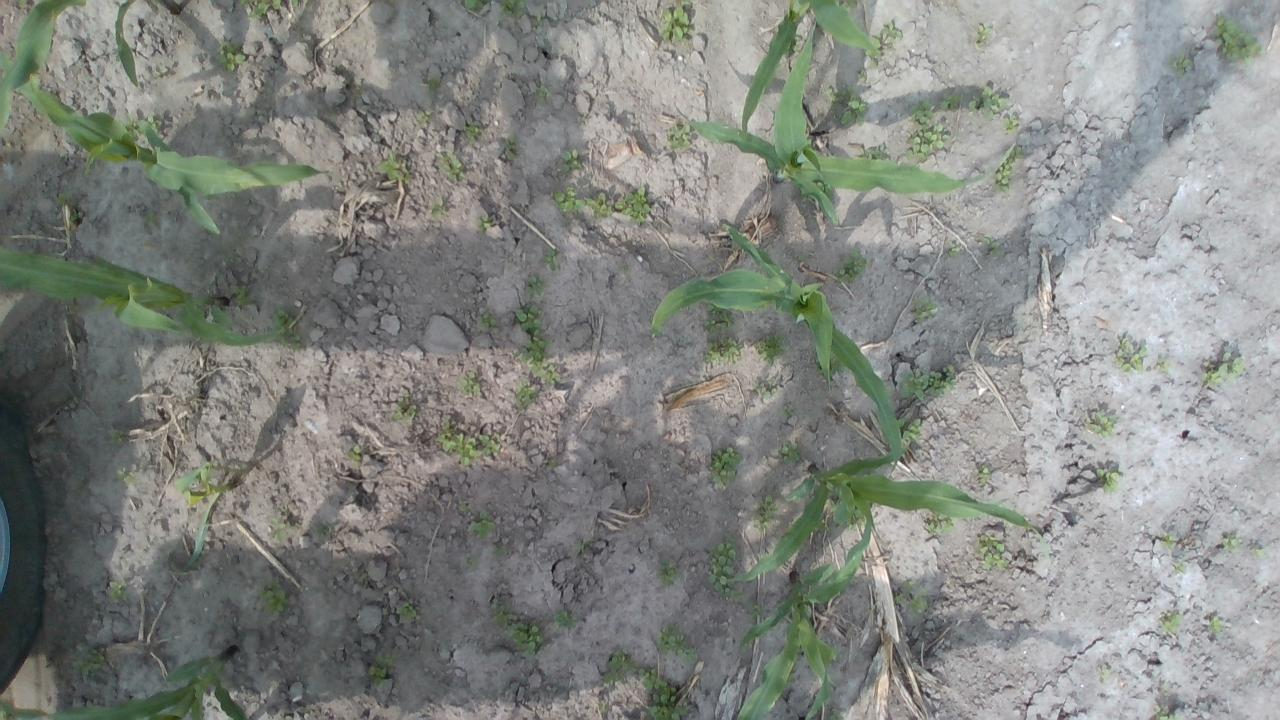Maize: (679, 21, 1015, 226), (649, 221, 904, 474), (0, 50, 331, 241), (728, 454, 1056, 584), (734, 516, 881, 720), (0, 246, 281, 350), (0, 0, 181, 120), (740, 0, 881, 133), (0, 649, 250, 720), (170, 462, 226, 573)
Weeds: (514, 302, 560, 386), (904, 99, 950, 162), (639, 663, 687, 720), (1214, 15, 1264, 65), (436, 429, 501, 465), (707, 535, 743, 600), (898, 364, 956, 400), (825, 86, 868, 126), (1202, 349, 1246, 388), (614, 184, 652, 227), (655, 624, 698, 662), (660, 0, 696, 42), (710, 447, 745, 489), (968, 86, 1008, 122), (994, 146, 1024, 192), (504, 622, 544, 656), (894, 578, 928, 617), (272, 304, 302, 348), (600, 648, 634, 686), (702, 336, 744, 366), (70, 646, 104, 682), (1113, 337, 1147, 373), (257, 578, 288, 616), (835, 248, 867, 284), (976, 533, 1008, 569), (213, 39, 246, 72), (376, 150, 409, 182), (754, 334, 788, 362), (436, 150, 464, 183), (369, 655, 396, 689), (753, 494, 777, 532), (704, 304, 734, 334), (468, 510, 498, 539), (552, 187, 584, 214), (926, 509, 960, 534), (1087, 412, 1119, 438), (799, 182, 835, 204), (389, 397, 417, 425), (655, 558, 680, 586), (1168, 49, 1192, 78), (896, 416, 922, 442), (1095, 466, 1121, 492), (457, 370, 481, 398), (585, 192, 611, 217), (557, 148, 582, 172), (514, 384, 536, 411), (751, 380, 780, 400), (777, 441, 802, 464), (552, 606, 578, 628), (914, 297, 938, 320), (668, 123, 690, 148), (525, 272, 546, 298), (121, 111, 142, 135), (500, 0, 530, 16), (879, 22, 903, 42), (1162, 610, 1182, 634), (861, 144, 890, 159), (464, 120, 480, 146), (864, 35, 882, 58), (270, 518, 288, 541), (1221, 532, 1241, 552), (230, 286, 252, 304), (250, 0, 270, 19), (974, 23, 992, 44), (846, 510, 866, 528), (108, 582, 128, 600), (544, 248, 559, 272), (985, 234, 1001, 256), (146, 111, 160, 136), (1001, 117, 1020, 135), (494, 606, 512, 625), (941, 94, 961, 111), (535, 85, 554, 102), (396, 601, 416, 617), (478, 313, 498, 329), (1156, 709, 1184, 720), (115, 465, 134, 481), (1160, 531, 1176, 550), (350, 445, 362, 470), (788, 31, 802, 52), (504, 137, 516, 161), (834, 0, 858, 12), (462, 0, 488, 11), (142, 209, 157, 228), (430, 199, 444, 219), (1210, 616, 1225, 634), (56, 191, 72, 207), (107, 428, 123, 444), (1096, 665, 1110, 683), (26, 72, 43, 86), (781, 405, 800, 417), (478, 216, 492, 232), (976, 465, 990, 481), (495, 544, 511, 556), (946, 244, 961, 256), (417, 111, 433, 122), (829, 711, 846, 720), (313, 526, 328, 536), (575, 543, 585, 558), (271, 0, 284, 10), (428, 77, 438, 90), (1176, 558, 1184, 574), (742, 642, 751, 656), (752, 606, 762, 618), (534, 14, 544, 26), (1158, 359, 1168, 371), (854, 70, 864, 81), (463, 559, 475, 568), (1255, 548, 1265, 558), (290, 0, 300, 8), (238, 0, 250, 6), (16, 0, 28, 6), (622, 266, 630, 274), (798, 255, 806, 260)
